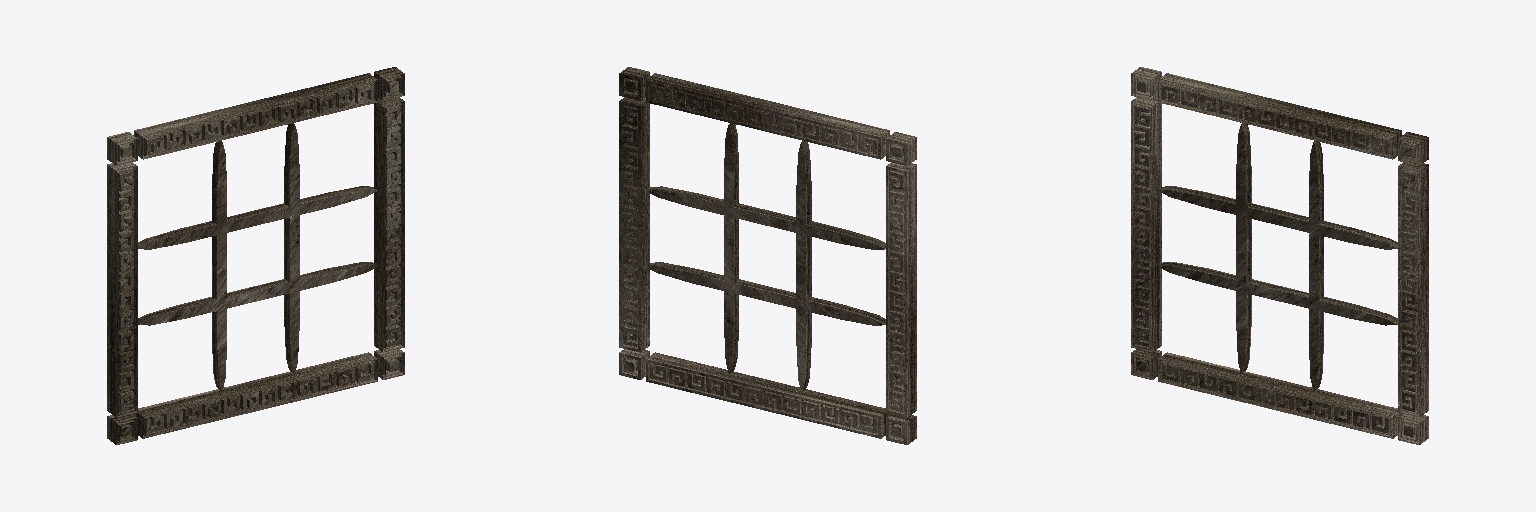
The picture shows the model from 3 angles: view 1: azimuth 30°, elevation 25°; view 2: azimuth 150°, elevation 25°; view 3: azimuth 330°, elevation 25°; orthographic projection.
Parts seen in each view (by area): view 1: Map; view 2: Map; view 3: Map.
Boxes of the visible parts, x1=… form: Map: x1=107, y1=67, x2=404, y2=444; Map: x1=619, y1=67, x2=916, y2=444; Map: x1=1131, y1=67, x2=1428, y2=444.
Bounding box in the file's own units: 8.75 × 8.75 × 0.4971.
1 materials, 1 textured.